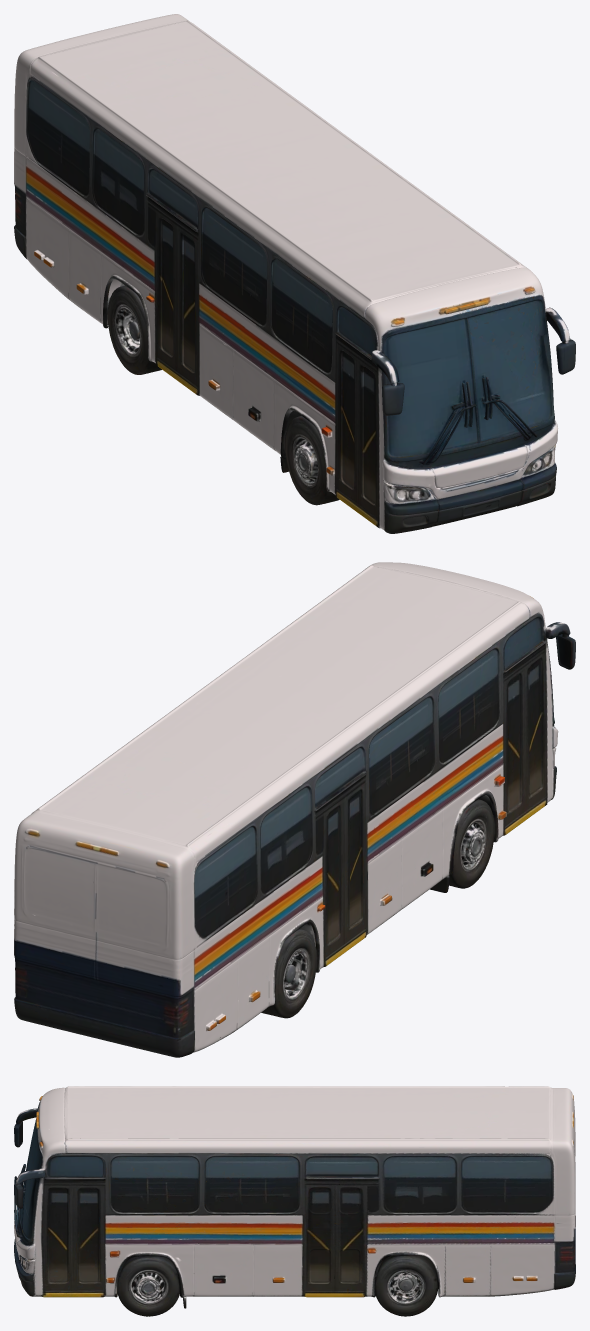
File: car-bus-white-v3.glb
3 views of the same model, one above another, from view 1: azimuth 30°, elevation 25°; view 2: azimuth 150°, elevation 25°; view 3: azimuth 270°, elevation 25° (orthographic). The views are drawn at different scales.
Parts seen in each view (by area): view 1: node_0; view 2: node_0; view 3: node_0.
Part boxes in pixels (x1,y1,x2,y2): node_0: [14, 14, 575, 533]; node_0: [14, 562, 575, 1057]; node_0: [14, 1086, 575, 1316].
Bounding box in the file's own units: 0.324 × 0.3901 × 1.13.
Materials: 1 (1 with a texture image).
